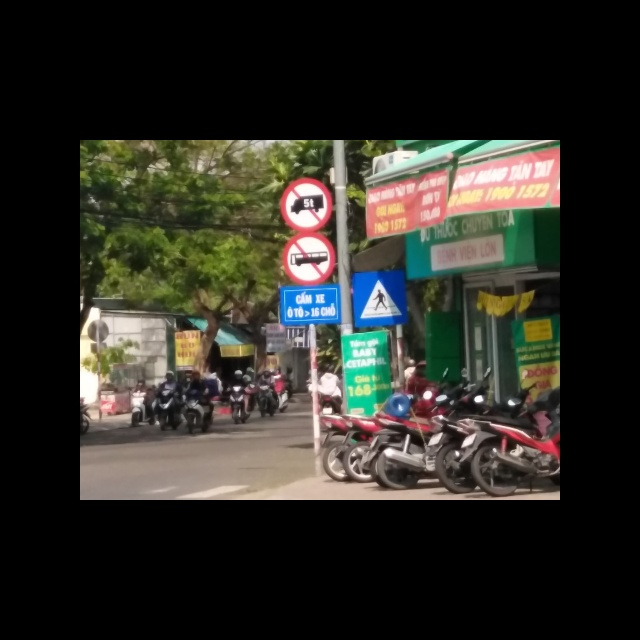Cấm xe tải: (279, 177, 331, 232)
Cấm xe xe khách: (280, 231, 338, 286)
Đường dành cho người đi bộ: (351, 271, 408, 327)
